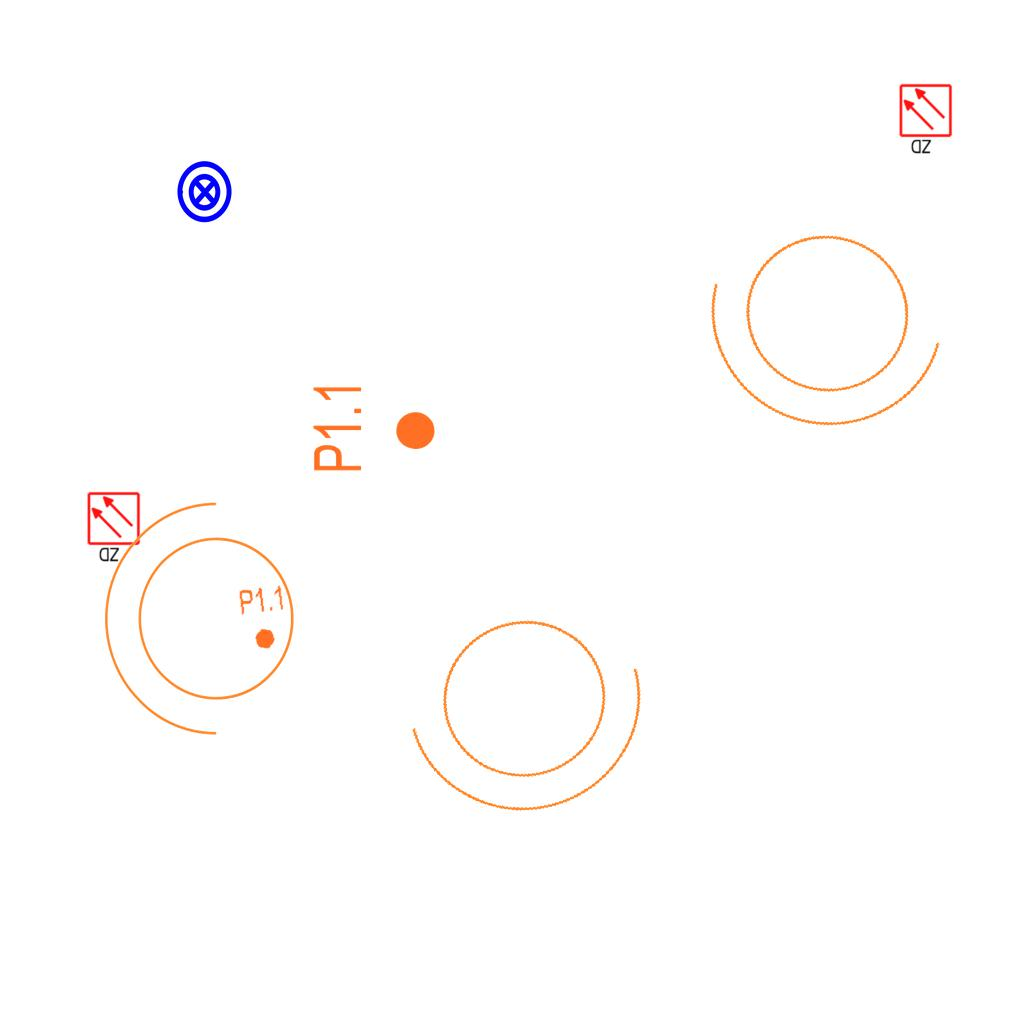Downlight_LED_Einbauleuchten_Flur: (310, 381, 438, 474), (237, 583, 291, 653)
Scheinwerfer_fuer_Alarmbeleuchtung: (376, 563, 690, 850), (674, 181, 988, 468), (94, 493, 319, 757)
Taster_beleuchtet: (172, 159, 238, 225)
ZD_Melder_in_Zwischendecke_mit_Revisionsoeffnung_mind_40_x_40_cm: (86, 491, 143, 565), (898, 83, 955, 157)
